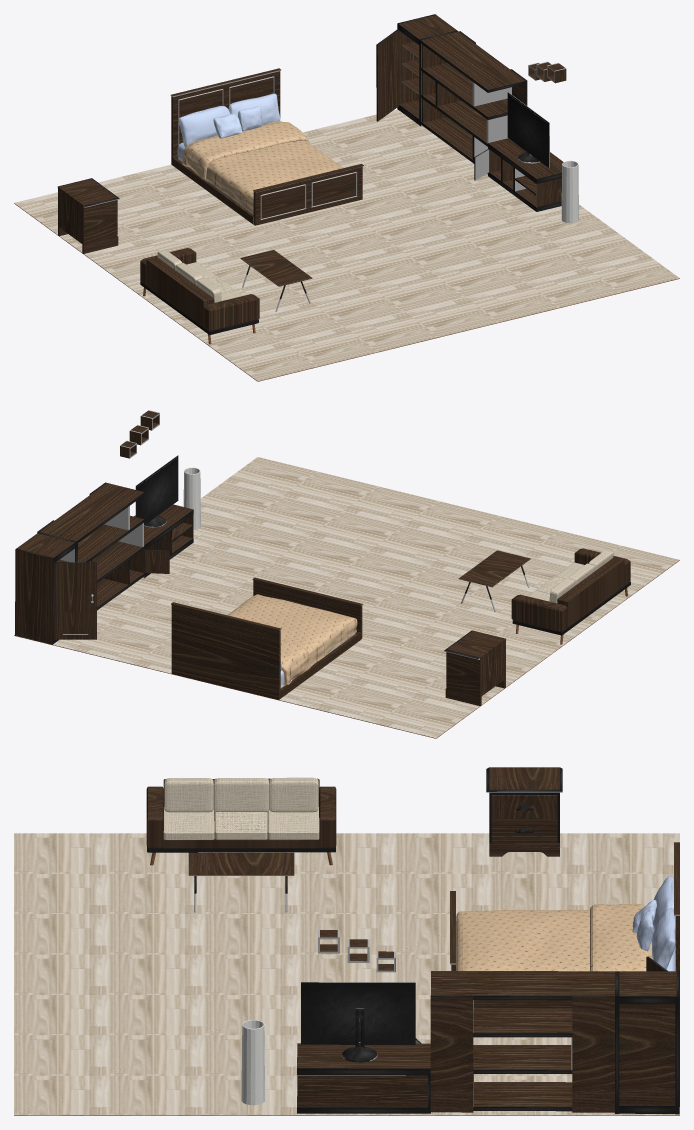
File: T1 Set 2 Pos 2.glb
3 renders of one model, top to bottom at view 1: azimuth 30°, elevation 25°; view 2: azimuth 150°, elevation 25°; view 3: azimuth 270°, elevation 25°, orthographic. The views are drawn at different scales.
Bounding box in the file's own units: 0.2923 × 0.0855 × 0.292.
Materials: 10 (9 with a texture image).
